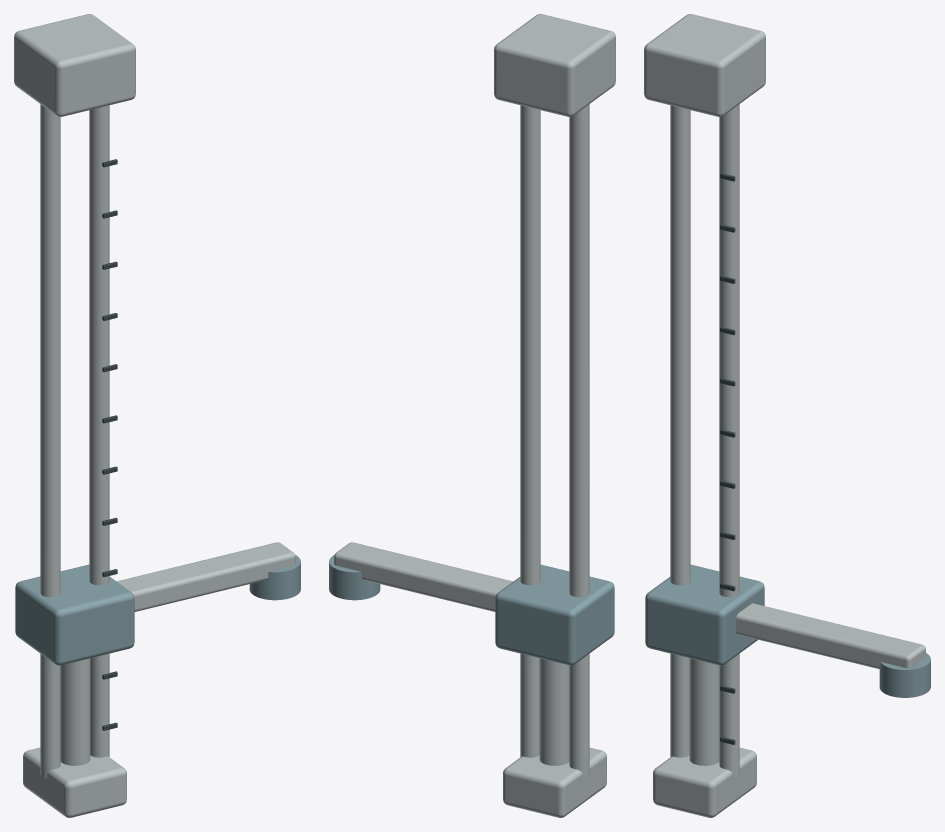
Rendered from abandoned-tidal-model-testing-hall-vertical-probe-posi-40e0a040__32350.glb.
3 renders of one model, left to right at view 1: azimuth 30°, elevation 25°; view 2: azimuth 150°, elevation 25°; view 3: azimuth 330°, elevation 25°, orthographic.
Parts seen in each view (by area): view 1: vertical-probe-positioner; view 2: vertical-probe-positioner; view 3: vertical-probe-positioner.
Boxes of the visible parts, x1,y1,x2,y2 form: vertical-probe-positioner: (14, 14, 300, 817); vertical-probe-positioner: (329, 14, 615, 817); vertical-probe-positioner: (644, 14, 930, 817).
Bounding box in the file's own units: 0.59 × 1.63 × 0.1801.
